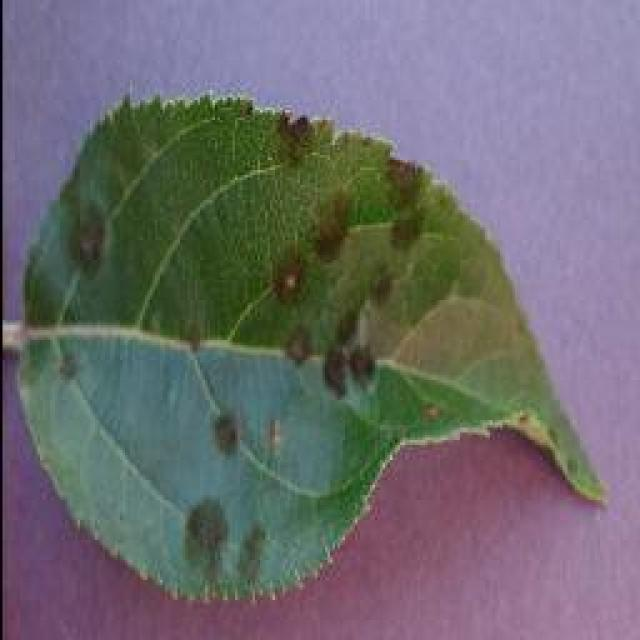Apple___Apple_scab: (13, 87, 613, 608)
